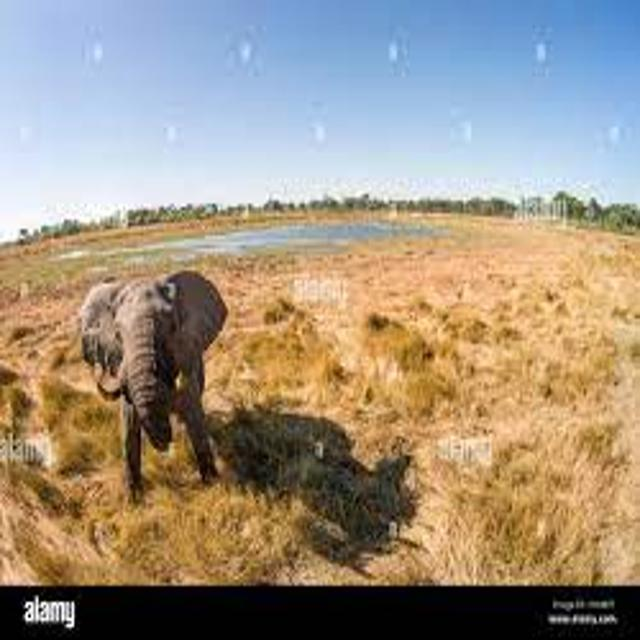elephant: (50, 242, 266, 533)
